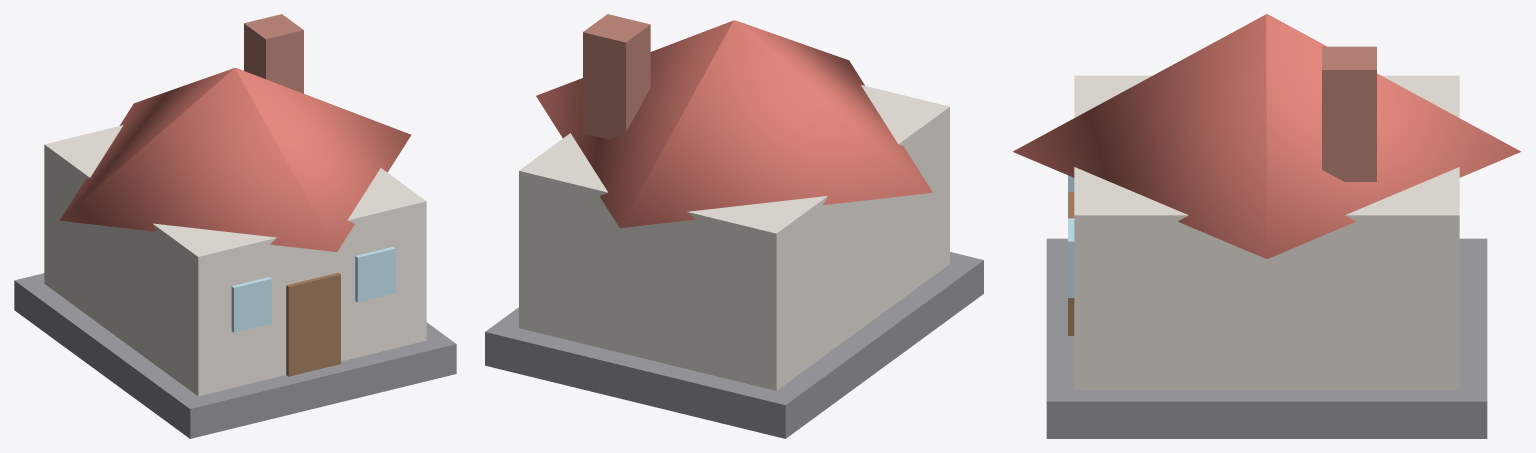
The picture shows the model from 3 angles, left to right: view 1: azimuth 30°, elevation 25°; view 2: azimuth 150°, elevation 25°; view 3: azimuth 270°, elevation 25°; orthographic projection. The views are drawn at different scales.
Parts seen in each view (by area): view 1: Generated3DMesh; view 2: Generated3DMesh; view 3: Generated3DMesh.
Part boxes in pixels (left/top/right/bottom): Generated3DMesh: left=14, top=14, right=456, bottom=438; Generated3DMesh: left=485, top=14, right=983, bottom=438; Generated3DMesh: left=1013, top=14, right=1520, bottom=438.
Size of the model in its own units: 3.7 by 2.75 by 3.7.
